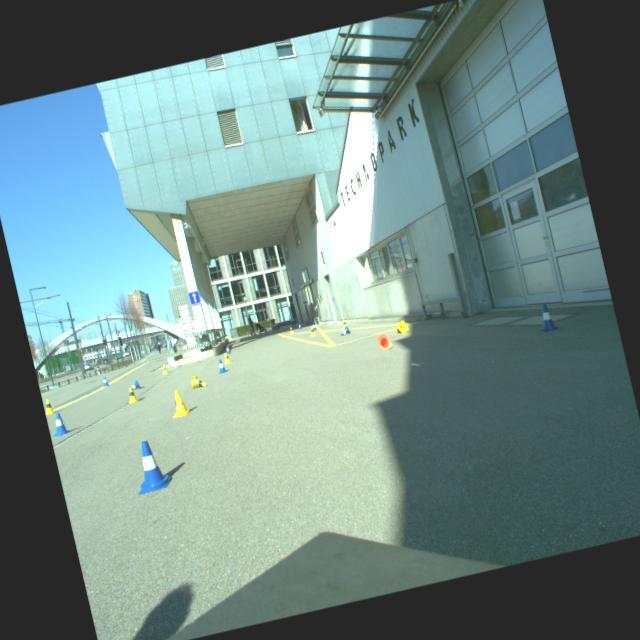blue_cone: (126, 436, 174, 494), (46, 410, 72, 437), (535, 302, 558, 332), (215, 358, 228, 374), (128, 380, 141, 390), (338, 326, 351, 336), (101, 376, 109, 386), (224, 344, 230, 354), (310, 322, 316, 330), (298, 322, 302, 329)
orange_cone: (377, 332, 392, 350)
yellow_cone: (166, 388, 192, 418), (189, 373, 207, 389), (125, 385, 139, 403), (394, 319, 408, 334), (42, 398, 55, 414), (222, 352, 232, 364), (160, 363, 169, 374), (308, 326, 316, 336), (341, 318, 348, 329), (289, 326, 294, 334)
